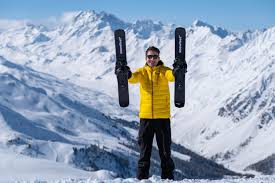skis: (112, 27, 188, 109)
